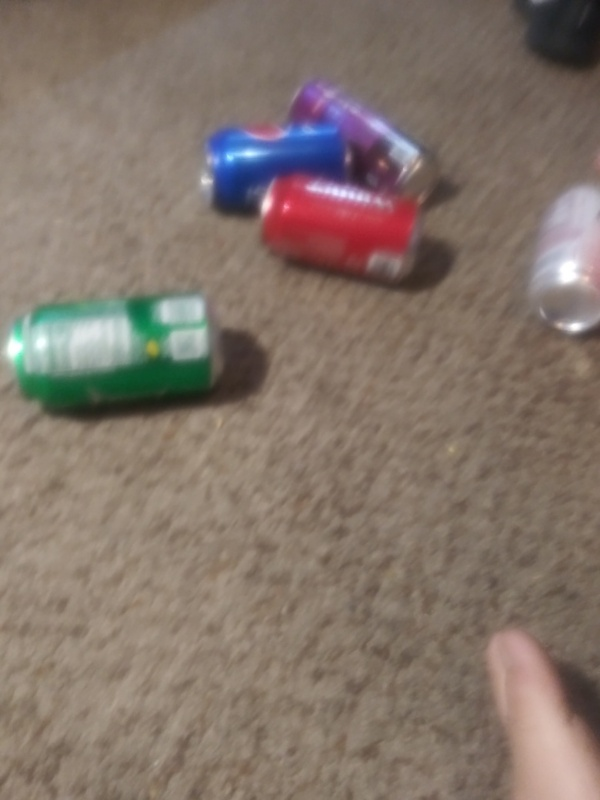can: (7, 281, 231, 420), (279, 75, 443, 214), (250, 175, 431, 287), (197, 118, 350, 212), (519, 176, 600, 341)
